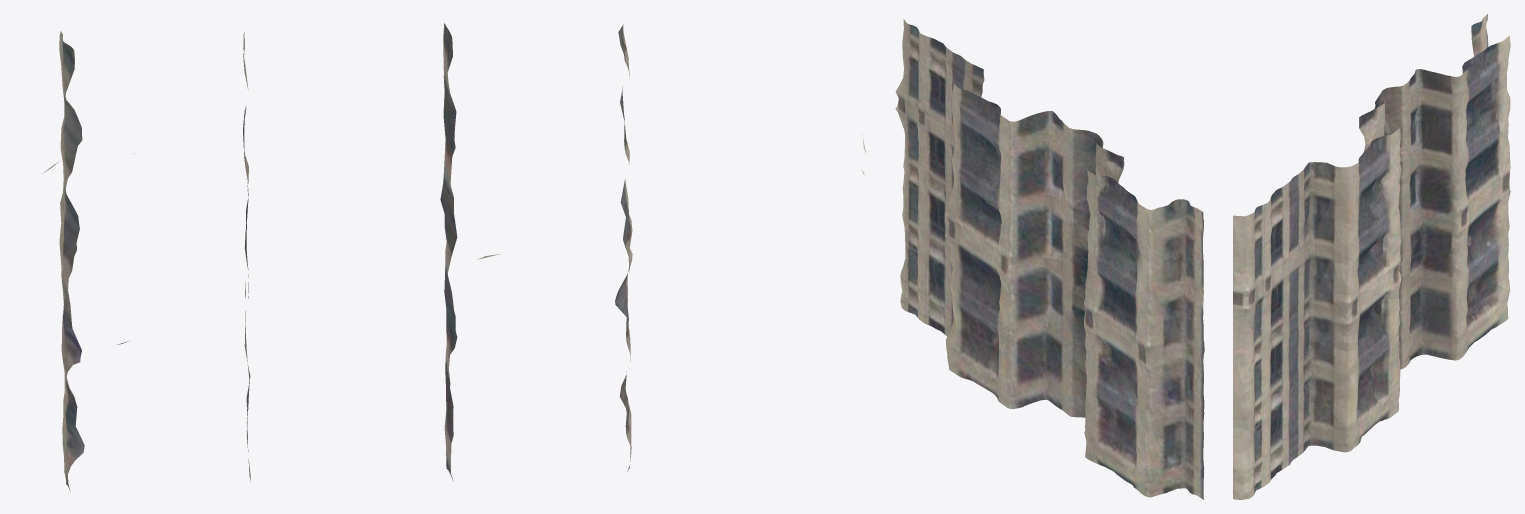
File: Tile__001__004_L22_00010100.glb
3 views of the same model, side by side, from view 1: azimuth 30°, elevation 25°; view 2: azimuth 150°, elevation 25°; view 3: azimuth 270°, elevation 25° (orthographic). The views are drawn at different scales.
Parts seen in each view (by area): view 1: root; view 2: root; view 3: root.
Part boxes in pixels (left/top/right/bottom): root: left=42, top=23, right=865, bottom=491; root: left=895, top=19, right=1204, bottom=499; root: left=1233, top=14, right=1510, bottom=499.
Size of the model in its own units: 16.02 by 10.25 by 9.14.
Materials: 1 (1 with a texture image).
